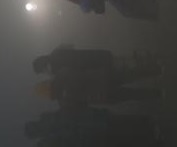person: (32, 42, 164, 83), (23, 108, 163, 140), (33, 77, 167, 109)
